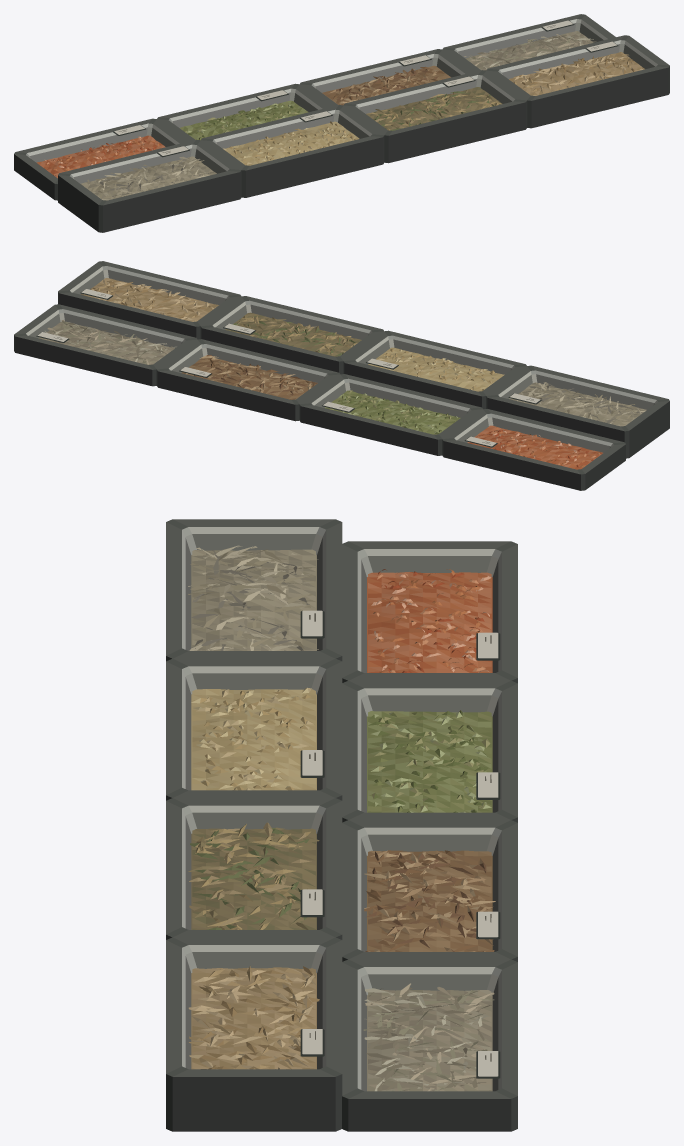
The model's file is broth-wells.glb.
The picture shows the model from 3 angles, top to bottom: view 1: azimuth 30°, elevation 25°; view 2: azimuth 150°, elevation 25°; view 3: azimuth 270°, elevation 25°; orthographic projection. The views are drawn at different scales.
Visible parts, largest first — view 1: BrothIngredients; view 2: BrothIngredients; view 3: BrothIngredients.
Part boxes in pixels (left/top/right/bottom): BrothIngredients: left=14, top=14, right=669, bottom=232; BrothIngredients: left=14, top=261, right=669, bottom=490; BrothIngredients: left=166, top=519, right=517, bottom=1131.
Bounding box in the file's own units: 2.98 × 0.1448 × 0.7949.
